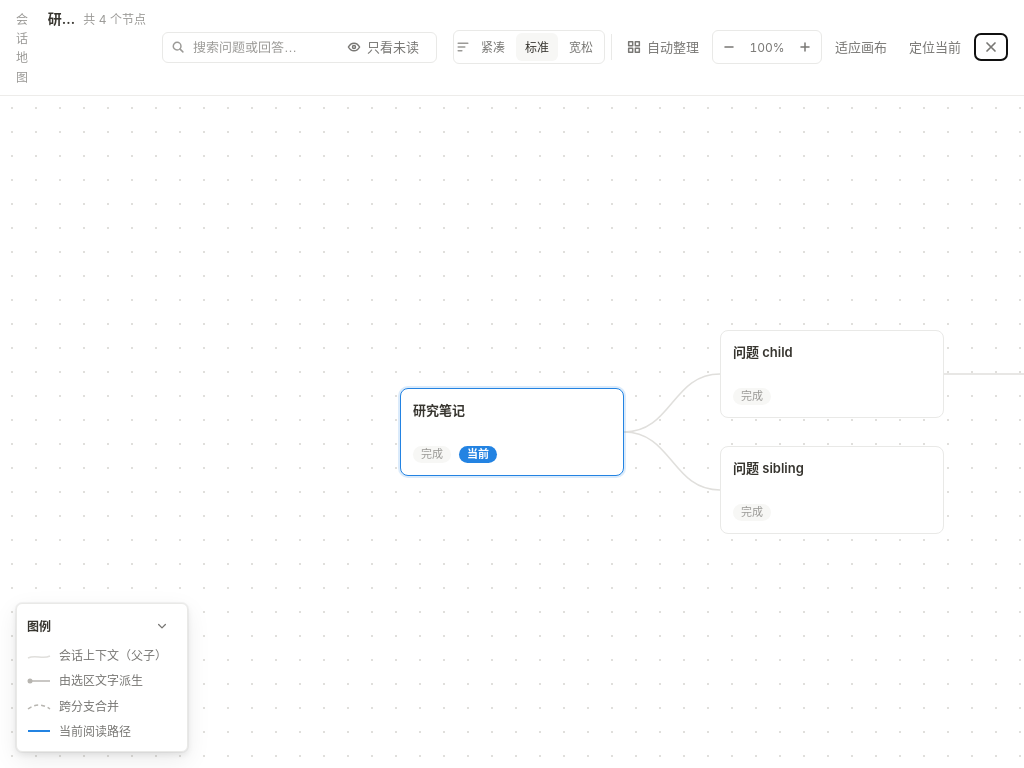
Test: SessionMap legend › collapses to a quiet 图例 button and expands again, without persisting
Click the button named "折叠图例". click: {"x": 162, "y": 626}
box: x1=147 y1=612 x2=177 y2=640
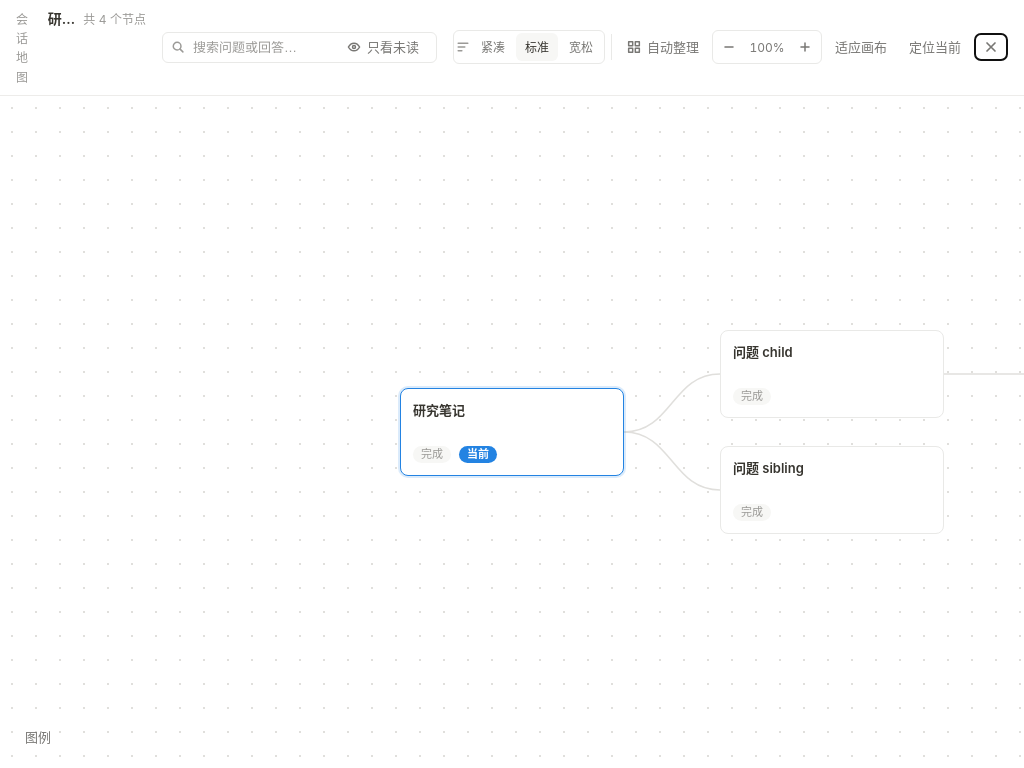
Expected: the list with class "session-map-legend-list" is gone
Expected: the button with aria-label "展开图例" is collapsed
Click the button with aria-label "展开图例". click: {"x": 38, "y": 738}
box: x1=16 y1=723 x2=60 y2=752
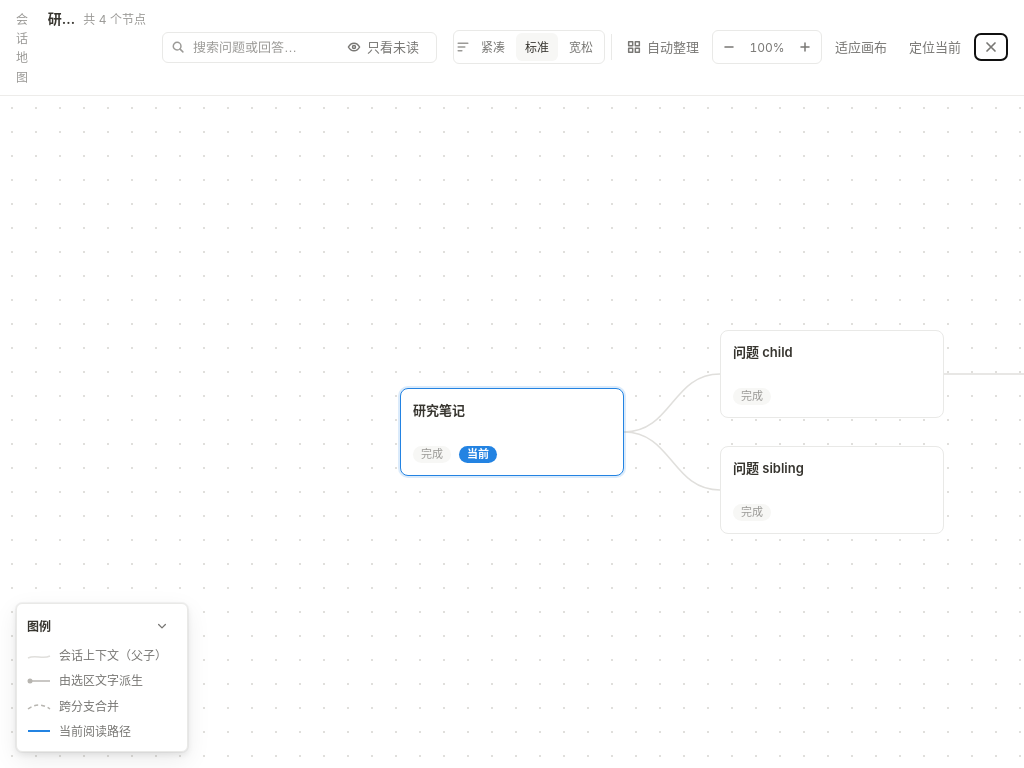
Expected: the number of list items is 4, x1=27 y1=646 x2=177 y2=666; x1=27 y1=673 x2=143 y2=688; x1=27 y1=699 x2=119 y2=714; x1=27 y1=724 x2=131 y2=739
